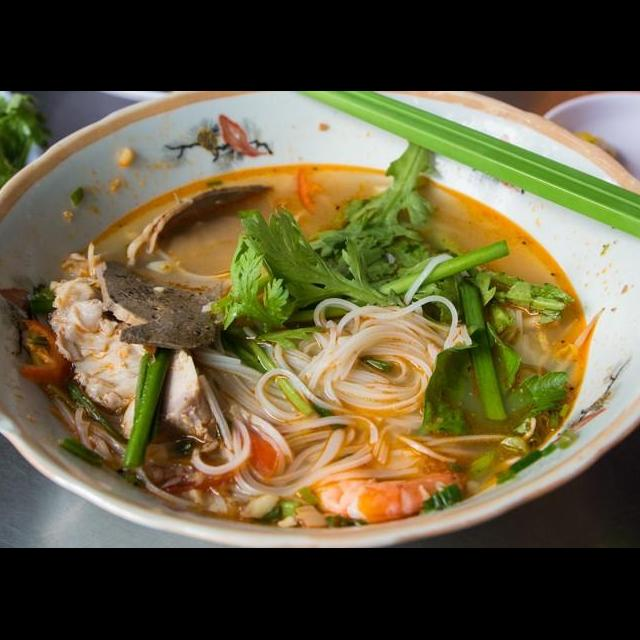bun: (183, 248, 478, 504)
gan: (88, 252, 252, 356), (122, 180, 278, 274)
tom: (310, 456, 478, 528)
